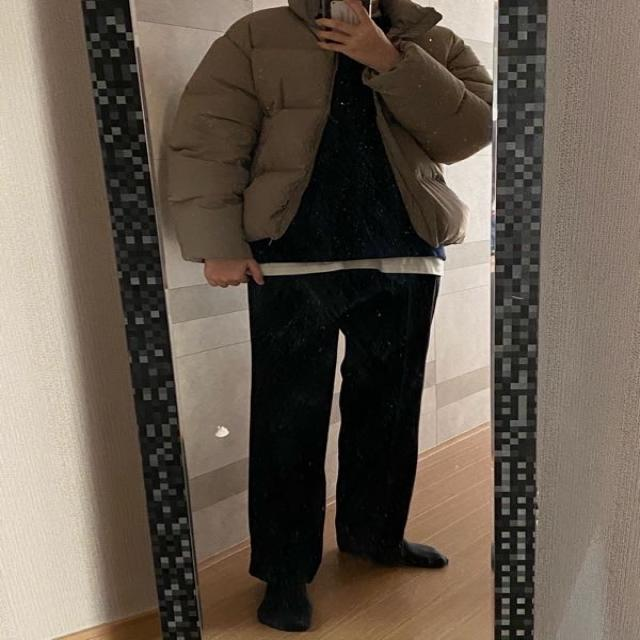padding: (167, 0, 493, 262)
slacks: (252, 271, 441, 574)
